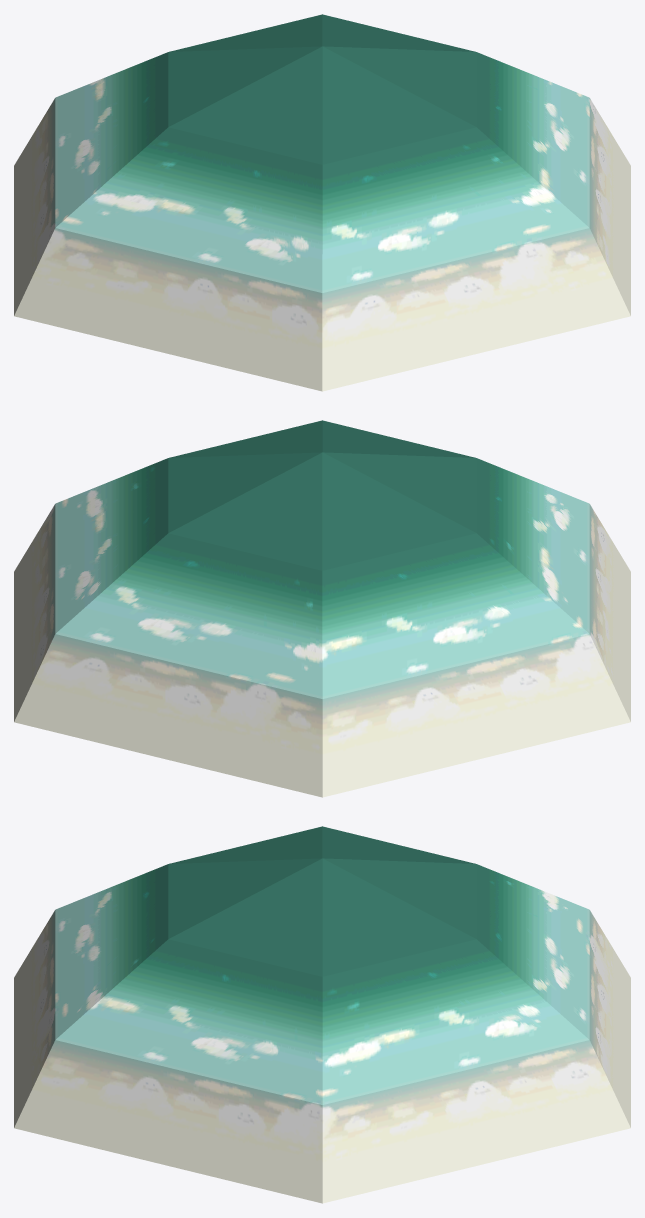
Rendered from MR_stage4-old_kinoko_gc_V.glb.
The picture shows the model from 3 angles, top to bottom: view 1: azimuth 30°, elevation 25°; view 2: azimuth 150°, elevation 25°; view 3: azimuth 270°, elevation 25°; orthographic projection.
Visible parts, largest first — view 1: old_kinoko_gc_V; view 2: old_kinoko_gc_V; view 3: old_kinoko_gc_V.
Boxes of the visible parts, <box> form: old_kinoko_gc_V: <box>14,14,630,391</box>; old_kinoko_gc_V: <box>14,420,630,797</box>; old_kinoko_gc_V: <box>14,826,630,1203</box>.
Size of the model in its own units: 1515 by 457 by 1312.
1 material, 1 textured.
